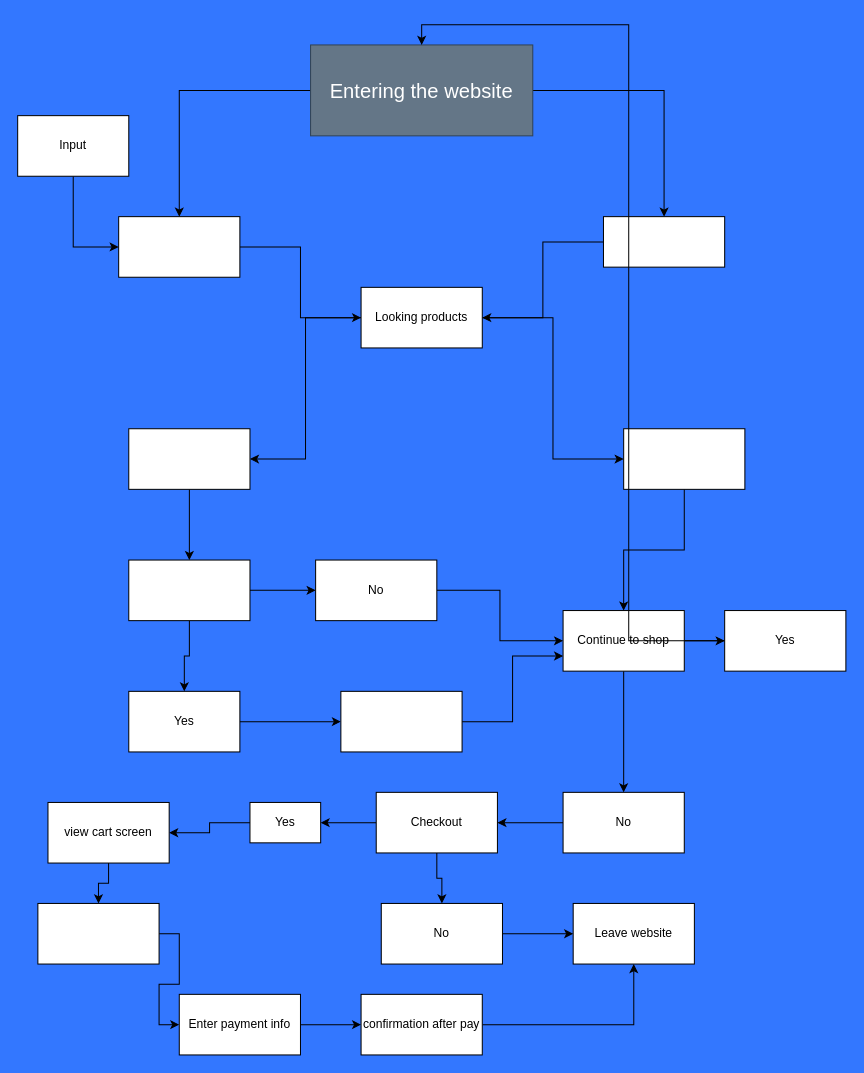
Image size: 864x1073. Some labels were removed from this diagram. Here are the shapes that lost their labels. From the top down, the box of each, then its label:
(118, 216, 240, 277): Search
(602, 216, 725, 267): Explore
(128, 428, 250, 489): Choose a product
(623, 428, 745, 489): Did not choose
(128, 559, 250, 621): Add to cart
(340, 690, 462, 752): confirmation
(37, 902, 159, 964): View payment screen
